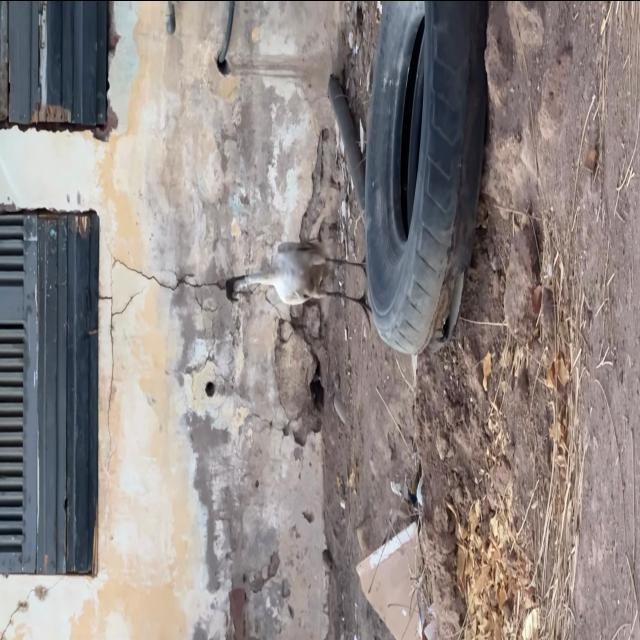Birds-Ibis: (222, 236, 374, 332)
